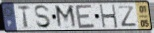E: (74, 4, 96, 30)
H: (99, 3, 120, 29)
M: (54, 4, 78, 30)
S: (33, 5, 53, 30)
T: (17, 4, 32, 30)
Z: (117, 5, 138, 28)
